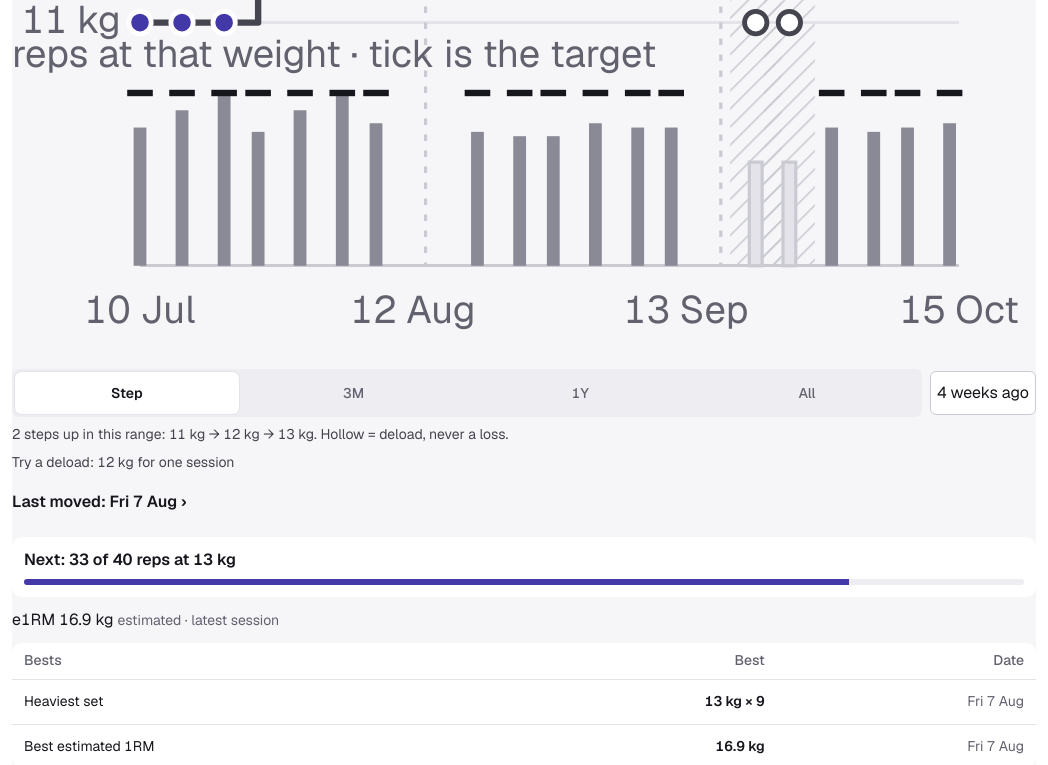
Test: E18-T11 O21 lift page › O21 the 4 weeks ago toggle reads the then-and-now top sets
(page scrolled)
expect the text "no change" is not shown: met
Step 1. Click the button "4 weeks ago" → (983, 393), box left=930, top=371, right=1036, bottom=415
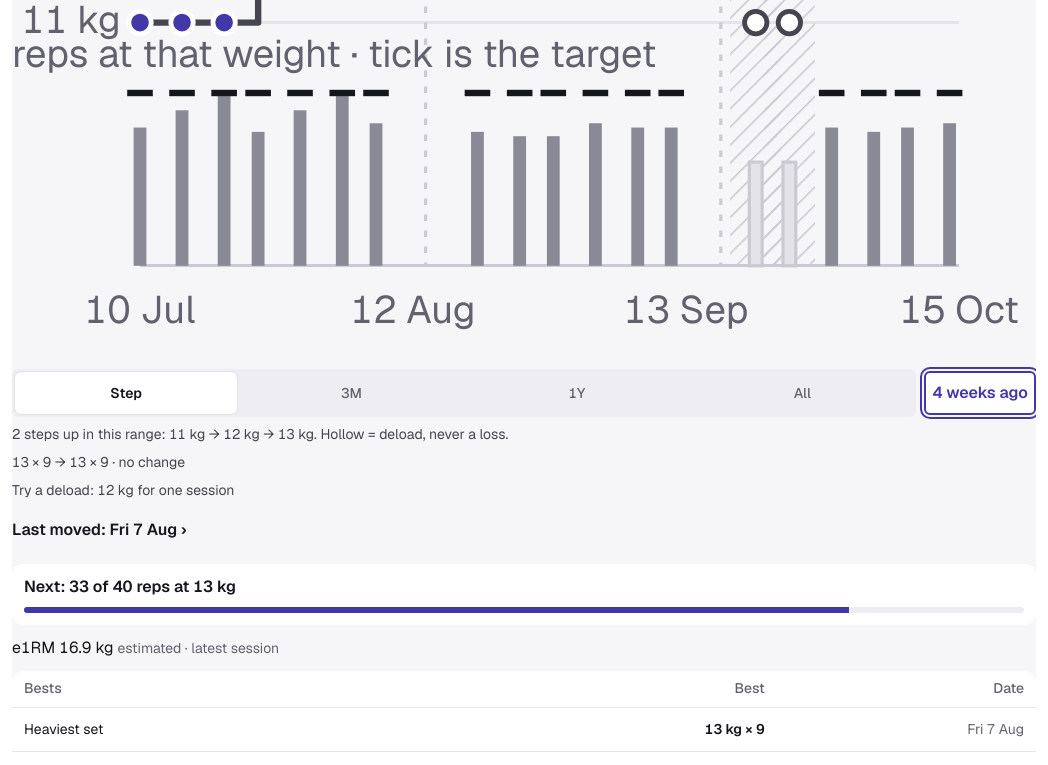
expect the text "13 × 9 → 13 × 9 · no change" is shown: met, box left=12, top=453, right=185, bottom=471
